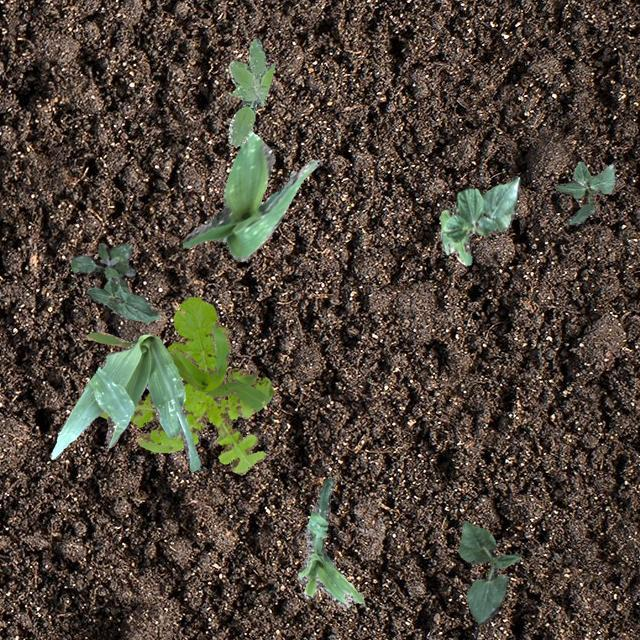crop: (48, 332, 200, 470), (182, 130, 320, 260), (85, 324, 258, 396), (296, 476, 362, 606), (438, 174, 520, 264), (458, 520, 520, 624), (554, 160, 614, 223), (84, 276, 158, 322)
weed: (99, 296, 272, 474), (228, 36, 274, 146), (68, 242, 134, 290)
